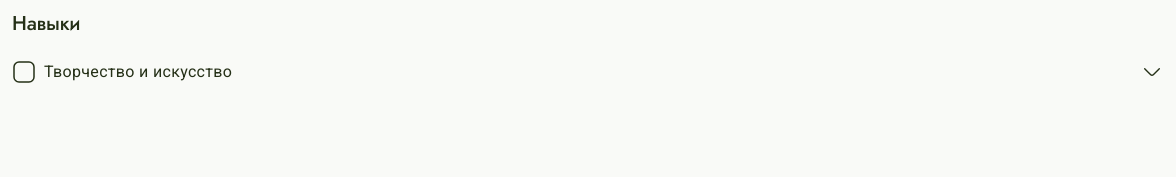
SkillsFilter › пересчитывает родительскую галочку по выбору подкатегорий
Later steps or results of the test are not shown.
Click the button named "Развернуть категорию" at {"x": 1152, "y": 72}, box [1140,60,1164,84]
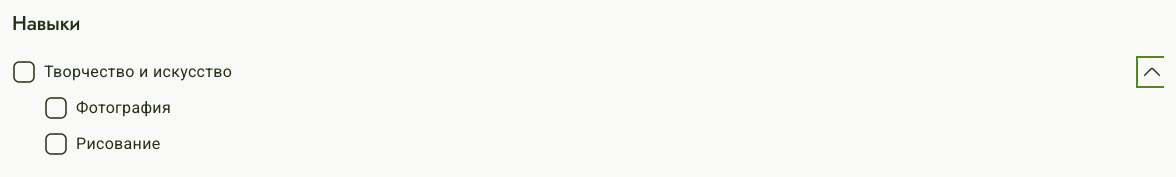
Click the checkbox labelled "Фотография" at {"x": 108, "y": 108}, box [44,96,171,120]
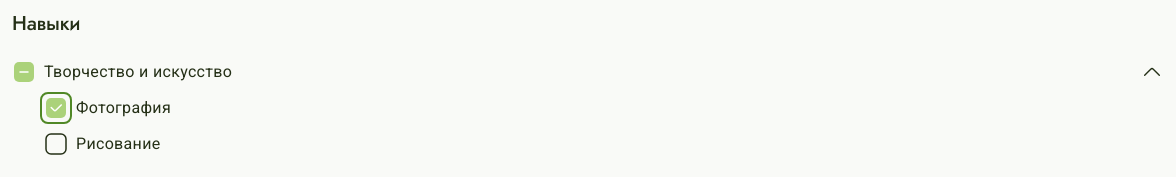
Click the checkbox labelled "Рисование" at {"x": 102, "y": 144}, box [44,132,160,156]
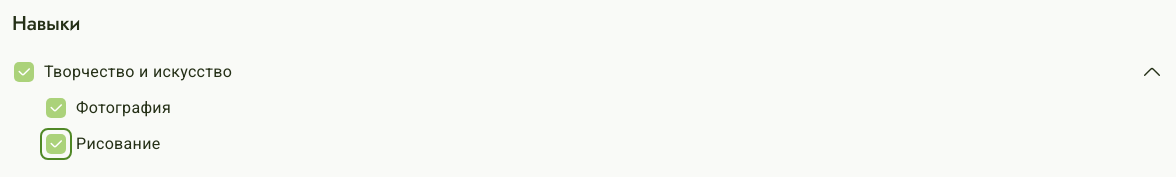
Expected: the checkbox labelled "Творчество и искусство" is checked, [12,60,232,84]
